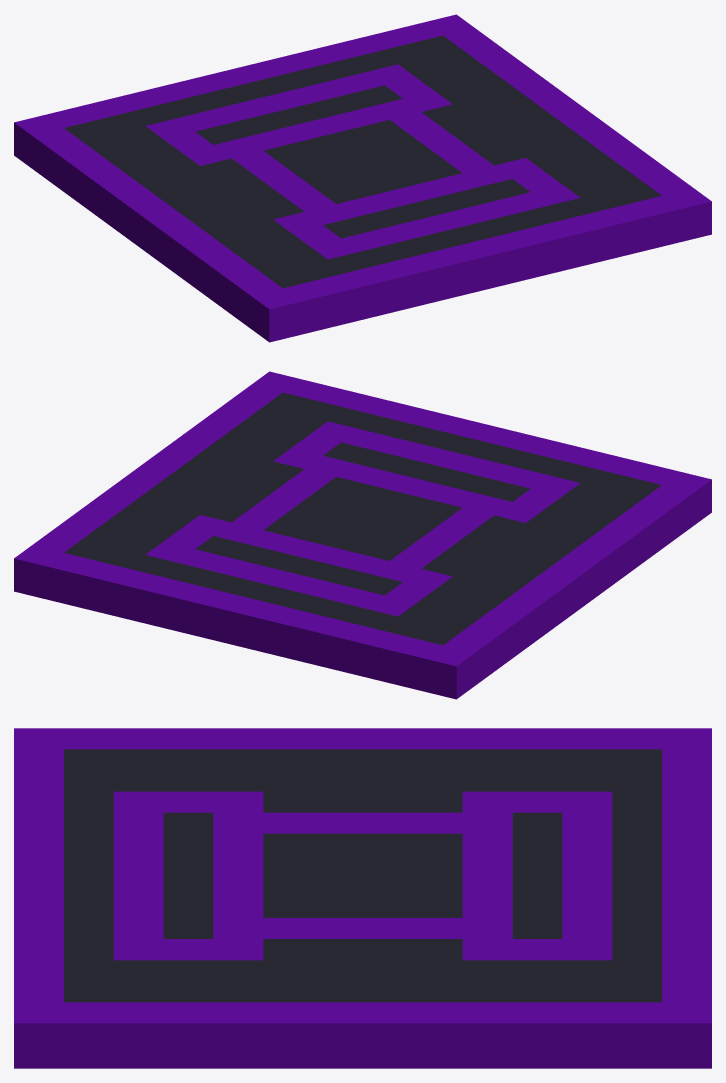
Rendered from TeleporterPad.gltf.
3 renders of one model, top to bottom at view 1: azimuth 30°, elevation 25°; view 2: azimuth 150°, elevation 25°; view 3: azimuth 270°, elevation 25°, orthographic. The views are drawn at different scales.
Parts seen in each view (by area): view 1: fill_cube (×9), teleporter_part (×10), south, west, east, north; view 2: fill_cube (×9), teleporter_part (×10), north, west, south, east; view 3: fill_cube (×9), teleporter_part (×10), east, north, west, south.
Part boxes in pixels (x1,y1,x2,y2): fill_cube (×9): [64, 35, 661, 288]; teleporter_part (×10): [146, 64, 580, 259]; south: [251, 196, 680, 342]; west: [14, 115, 282, 328]; east: [443, 28, 711, 241]; north: [46, 14, 474, 127]; fill_cube (×9): [64, 392, 661, 645]; teleporter_part (×10): [145, 421, 579, 616]; north: [14, 545, 442, 691]; west: [425, 485, 693, 699]; south: [283, 379, 711, 525]; east: [32, 371, 300, 552]; fill_cube (×9): [64, 749, 661, 1002]; teleporter_part (×10): [113, 791, 612, 960]; east: [14, 1002, 661, 1068]; north: [662, 749, 711, 1068]; west: [64, 728, 711, 749]; south: [14, 728, 63, 1002].
Size of the model in its own units: 0.875 by 0.0625 by 0.875.
Materials: 2 (2 with a texture image).
